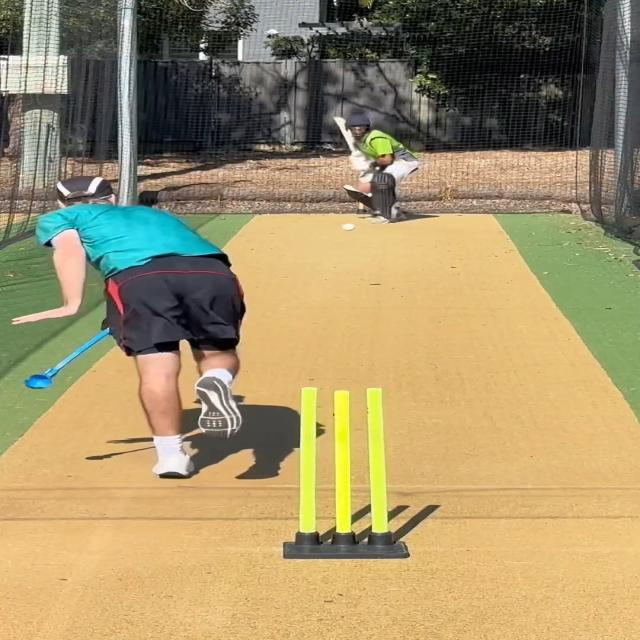ball: (340, 222, 357, 232)
stump: (280, 386, 412, 560)
